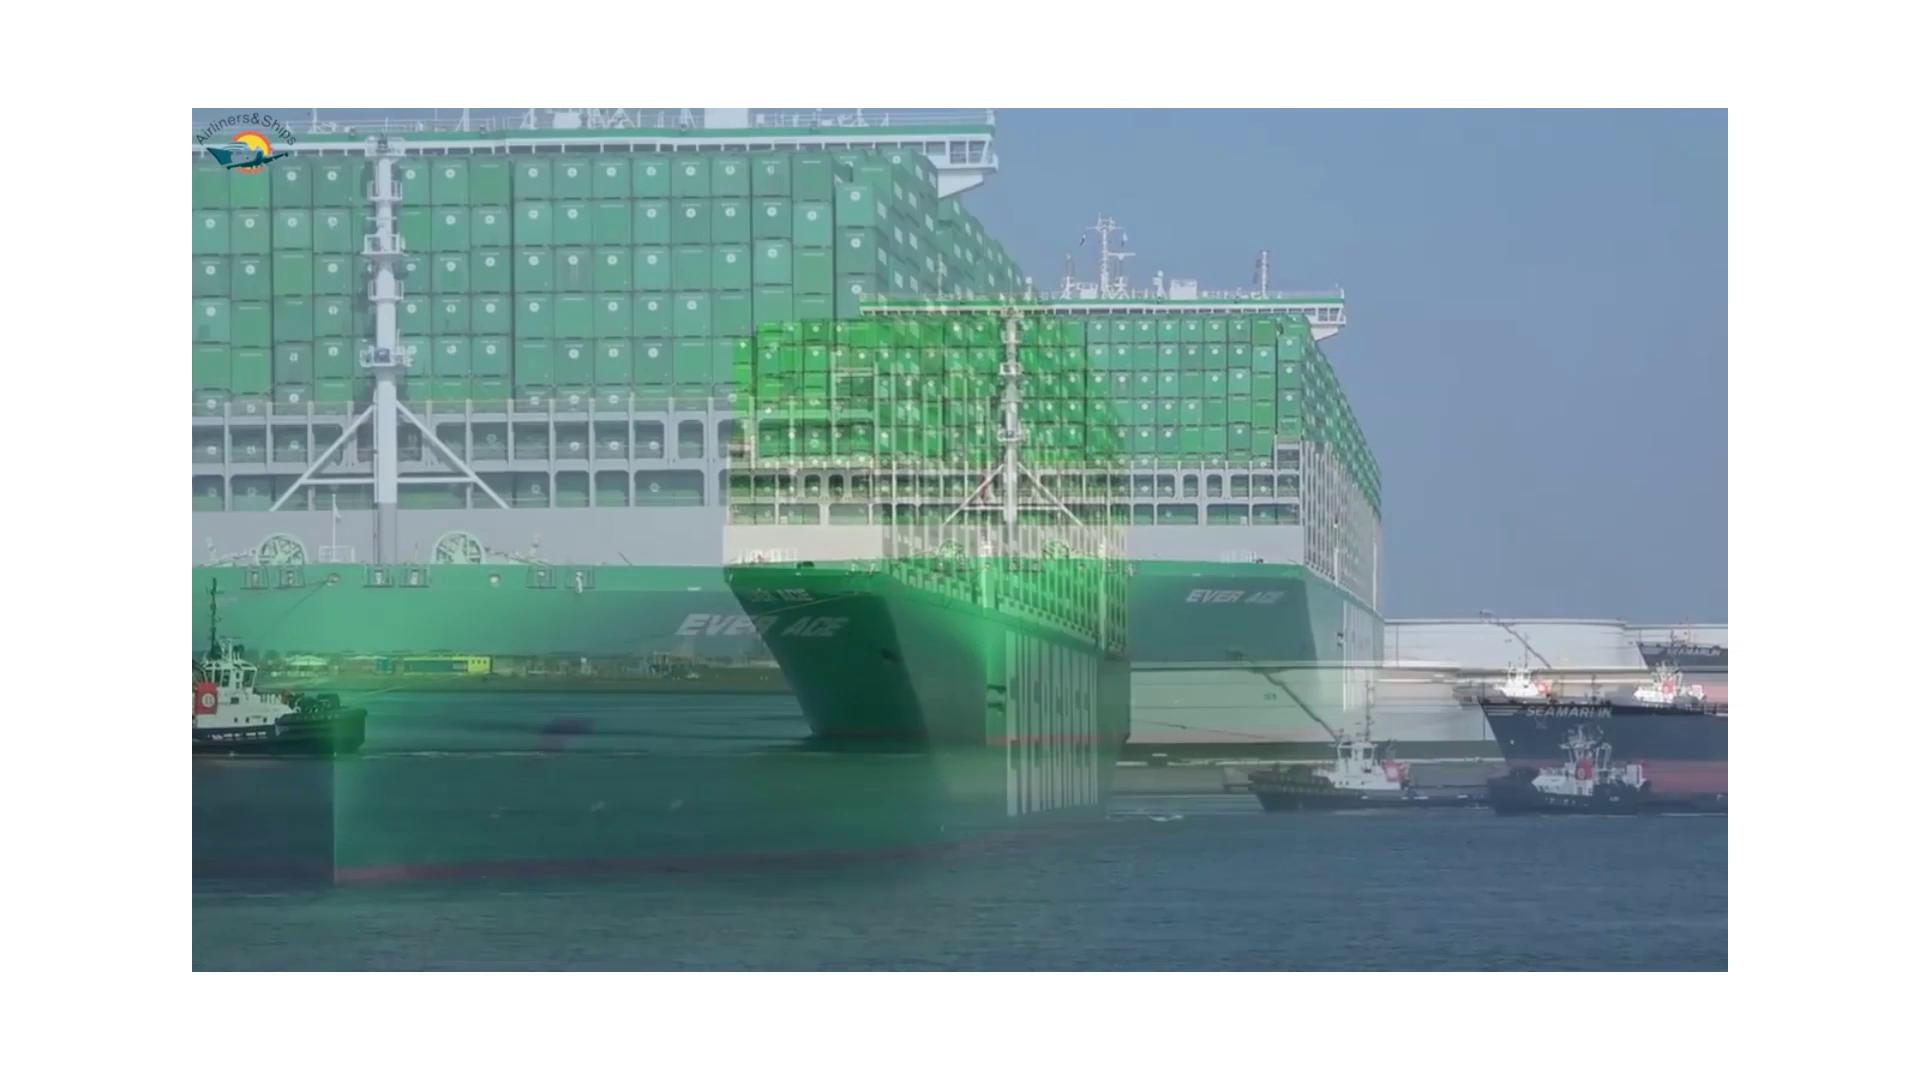OCR: (661, 593, 849, 669)
